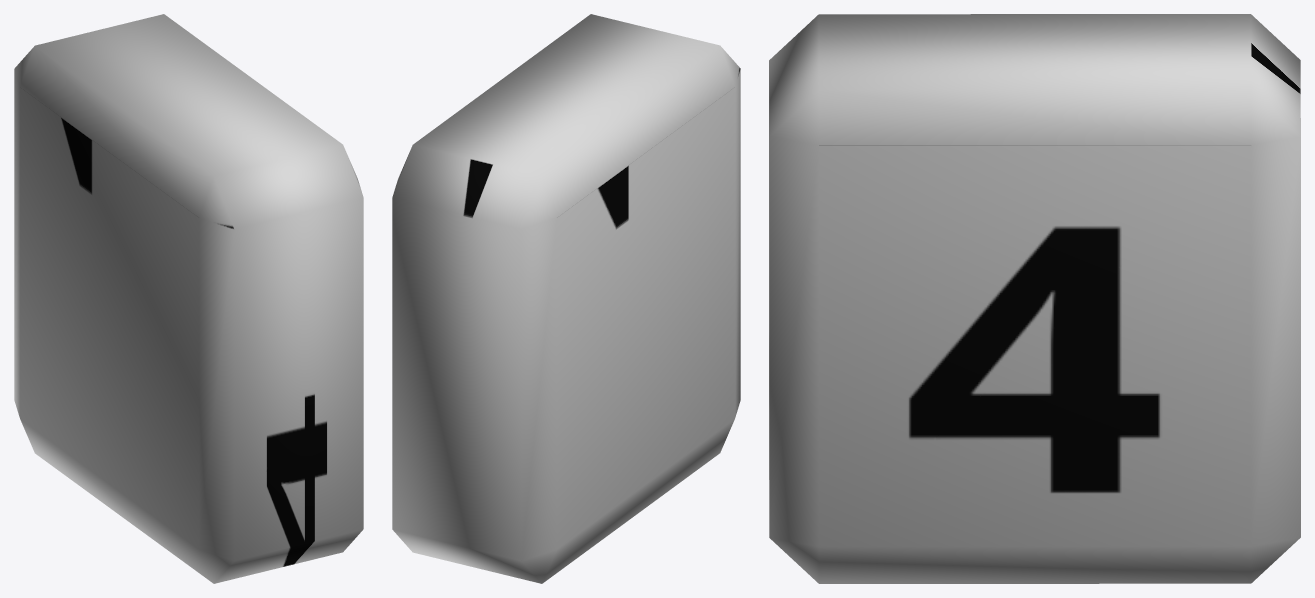
Rendered from Boton4.fbx.
3 views of the same model, side by side, from view 1: azimuth 30°, elevation 25°; view 2: azimuth 150°, elevation 25°; view 3: azimuth 270°, elevation 25° (orthographic). The views are drawn at different scales.
Parts seen in each view (by area): view 1: Boton4; view 2: Boton4; view 3: Boton4.
Part boxes in pixels (bbox=[...]): Boton4: bbox=[14, 14, 363, 583]; Boton4: bbox=[392, 14, 740, 583]; Boton4: bbox=[769, 14, 1300, 583].
Bounding box in the file's own units: 1.36 × 3.32 × 3.25.
